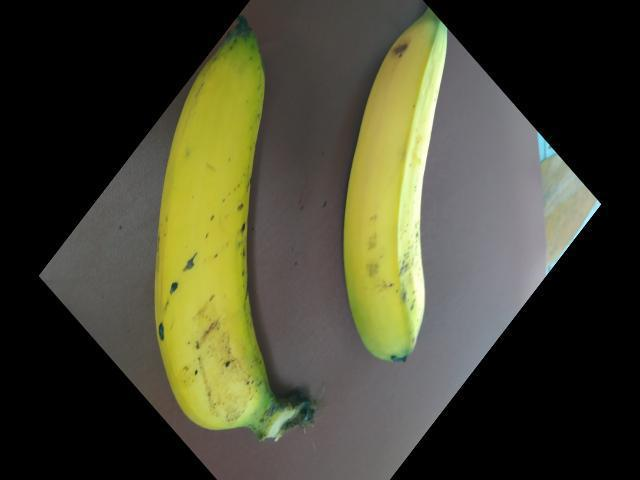freshripe: (330, 12, 468, 363)
ripe: (116, 24, 326, 474)
